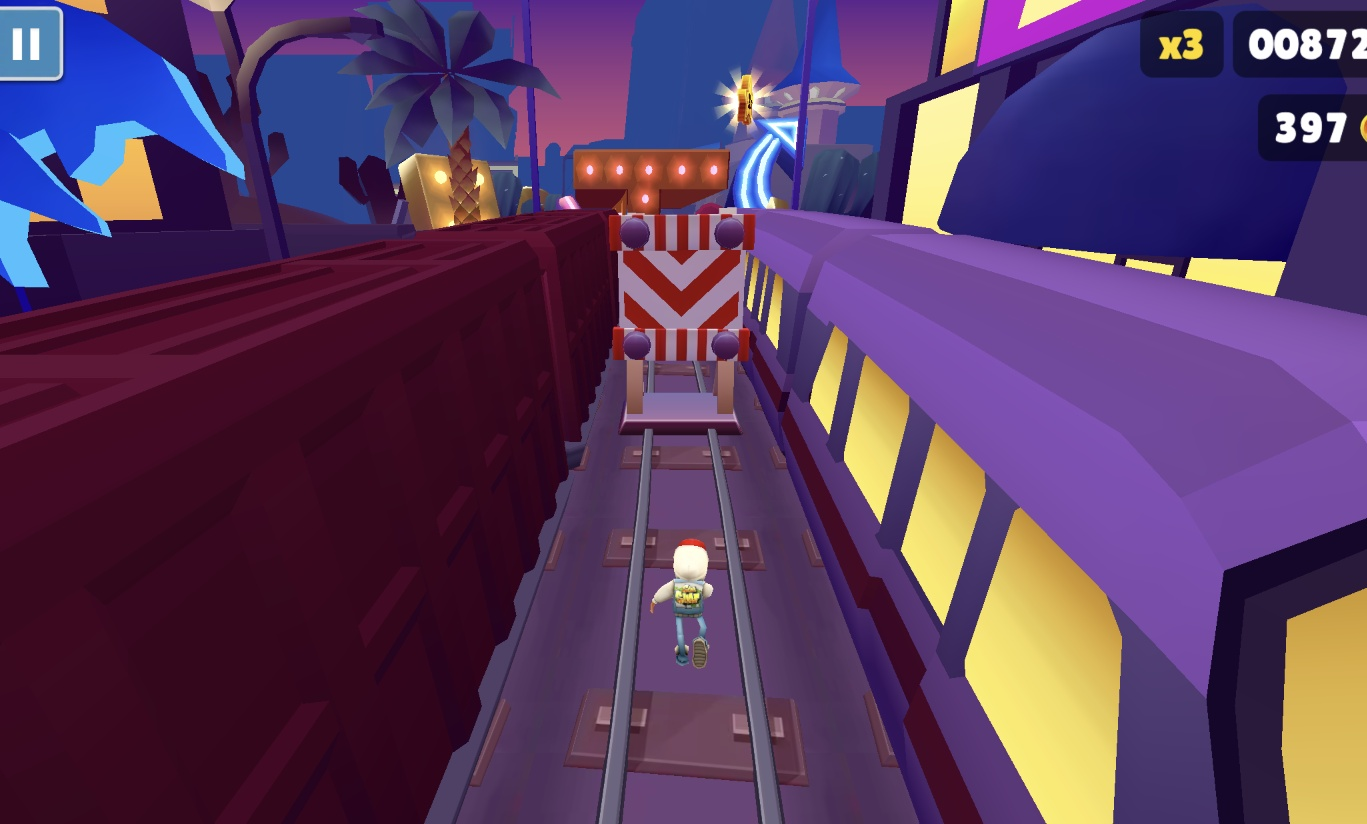overhead_barrier: (606, 210, 757, 437)
pillar: (621, 189, 664, 215)
train: (722, 209, 1367, 824), (0, 208, 614, 824)
